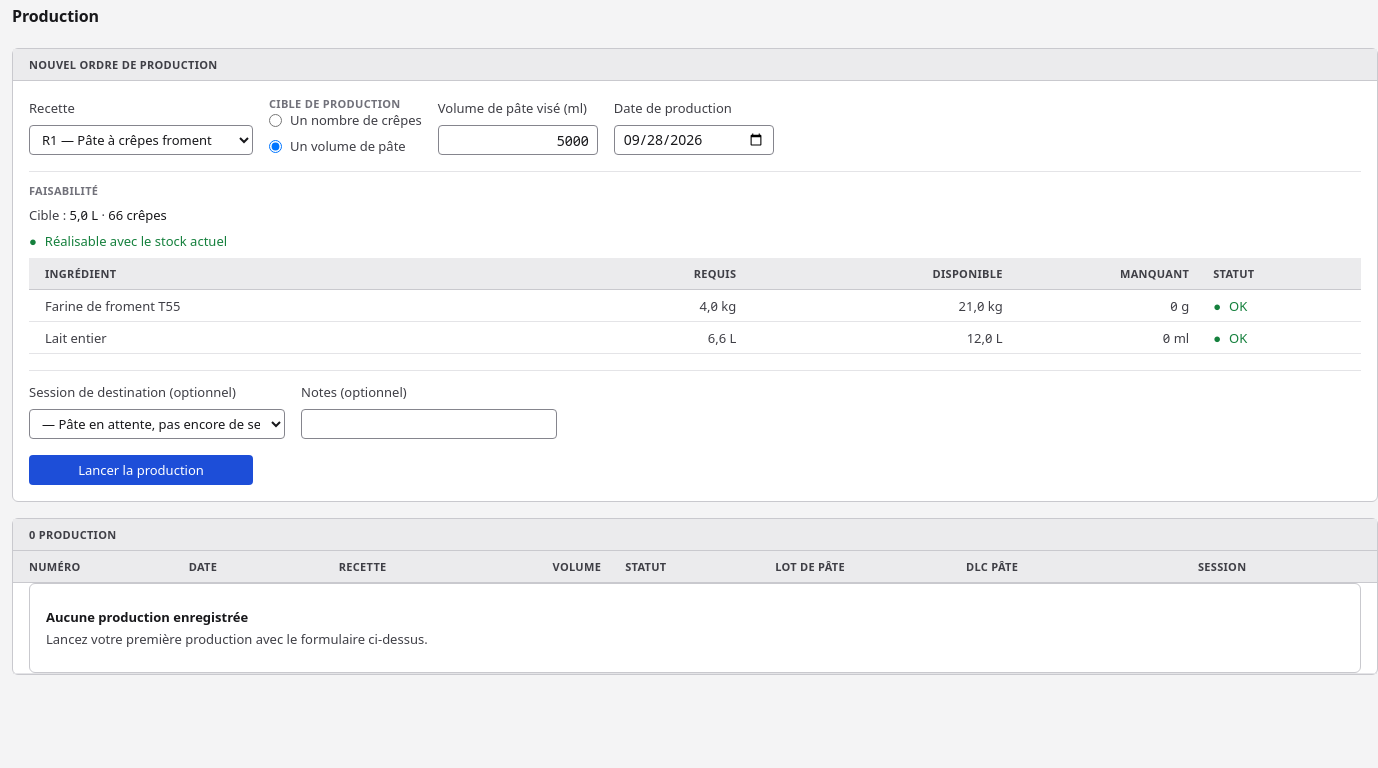
Test: Production — le contrôle de faisabilité en direct › une date vidée bloque le contrôle, avec son propre message
expect the dropdown labelled "Recette" is shown: met, box [29,125,253,155]
expect the table that starts with "Ingrédient" is shown: met, box [29,258,1361,354]
Step 1. Clear the date field labelled "Date de production" → (694, 140), box [614,125,774,155]
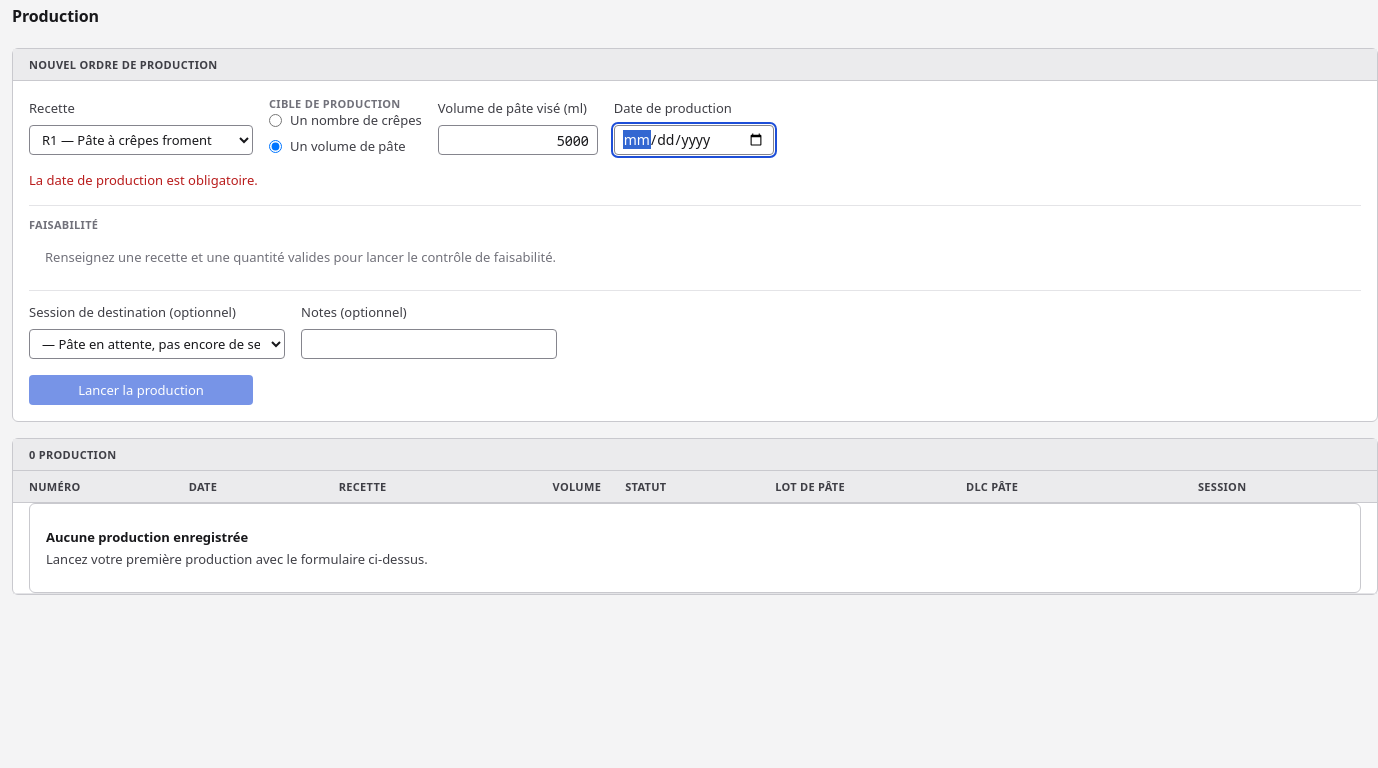
expect the text "La date de production est obligatoire." is shown: met, box [29,171,258,189]
expect the button "Lancer la production" is disabled: met, box [29,375,253,405]
